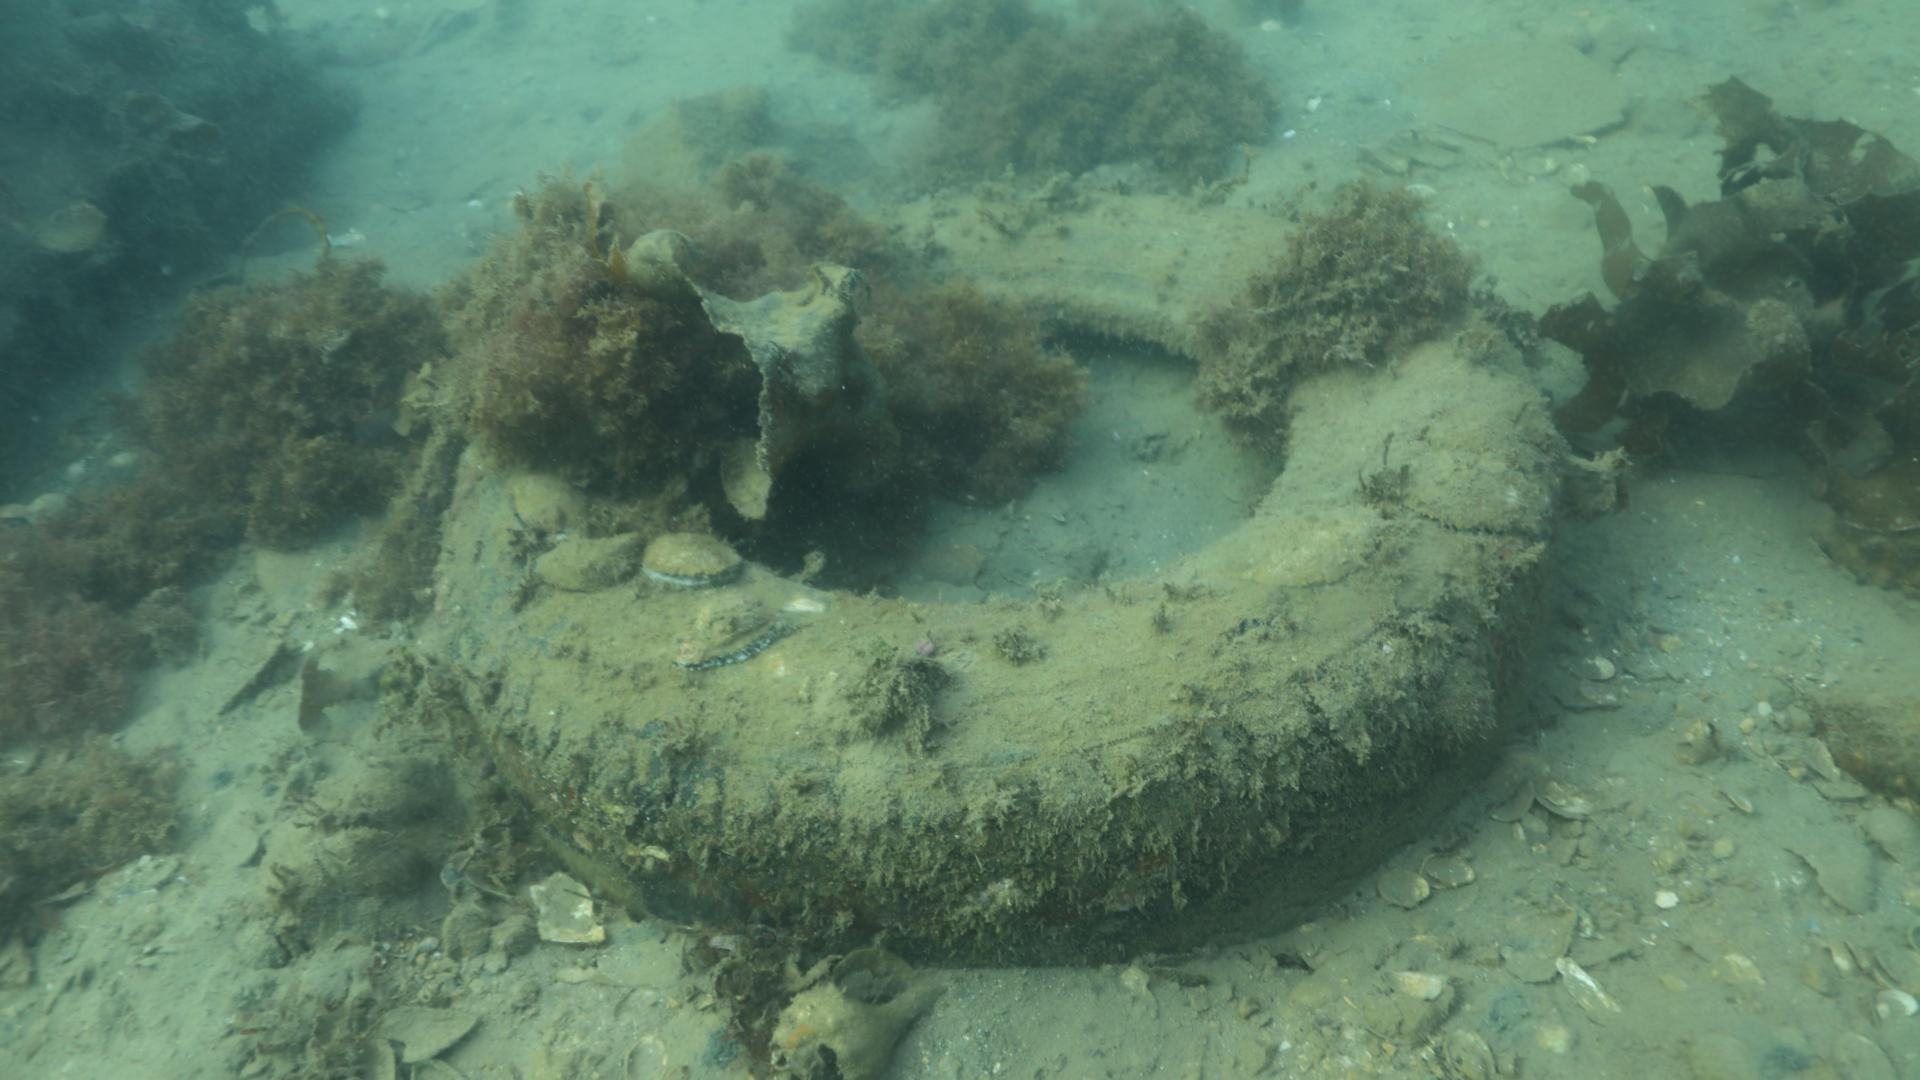tire: (429, 179, 1578, 975)
